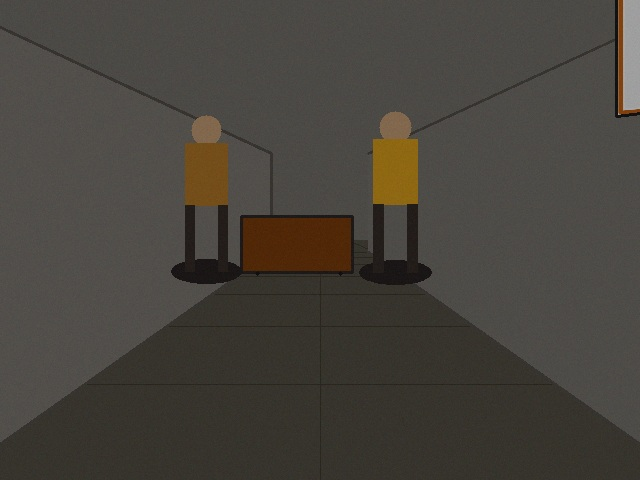cart: (241, 216, 352, 272)
directional_sign: (616, 0, 639, 116)
person: (363, 111, 427, 272), (175, 115, 237, 271)
